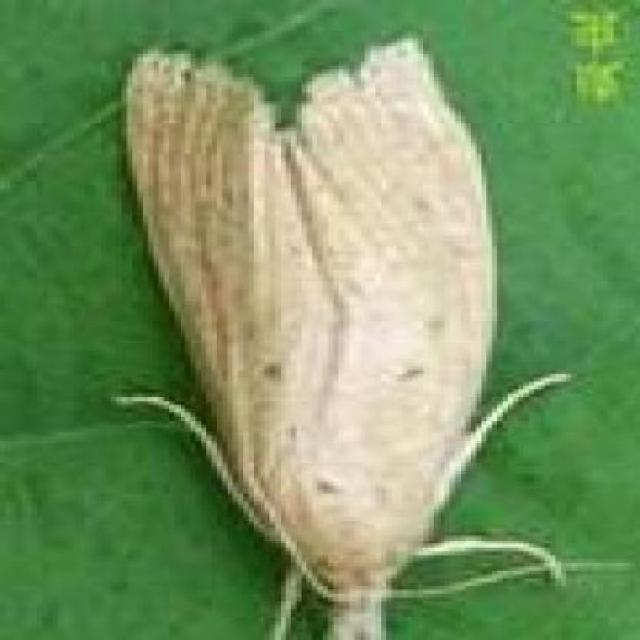stem-borer: (108, 31, 557, 640)
